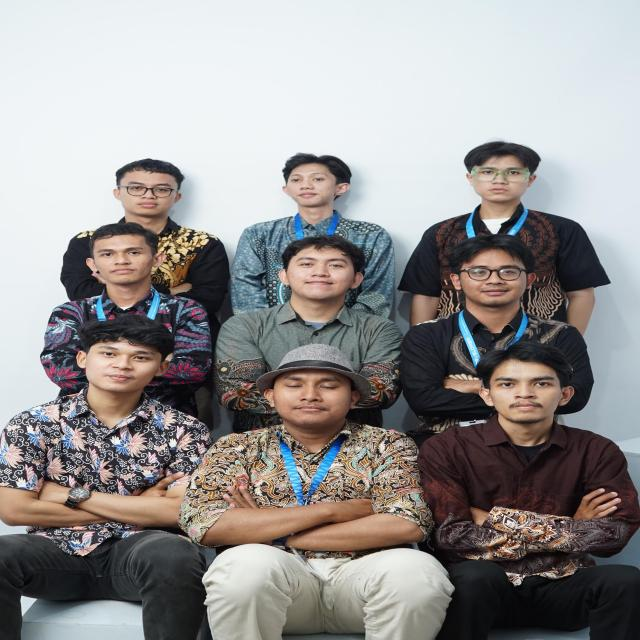nohelmet: (473, 338, 579, 434), (69, 312, 177, 402), (260, 338, 364, 424), (444, 238, 538, 312), (273, 234, 367, 304), (454, 138, 548, 206), (272, 149, 359, 214), (84, 224, 163, 294), (111, 156, 188, 225)
